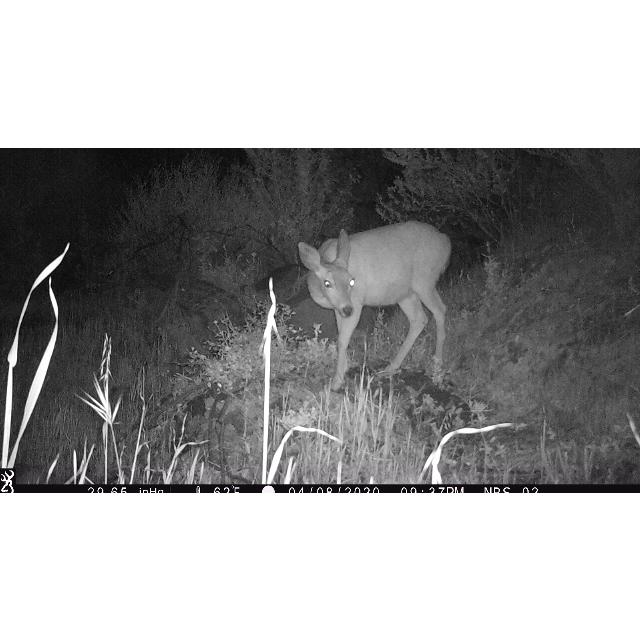animals: (296, 218, 454, 390)
